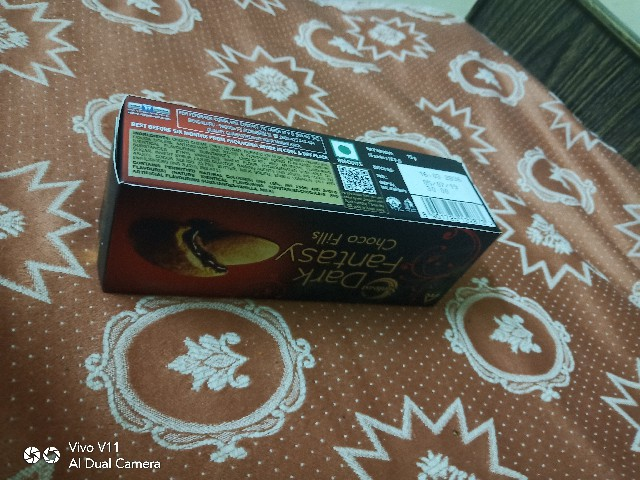darkfantasy big: (81, 87, 506, 305)
